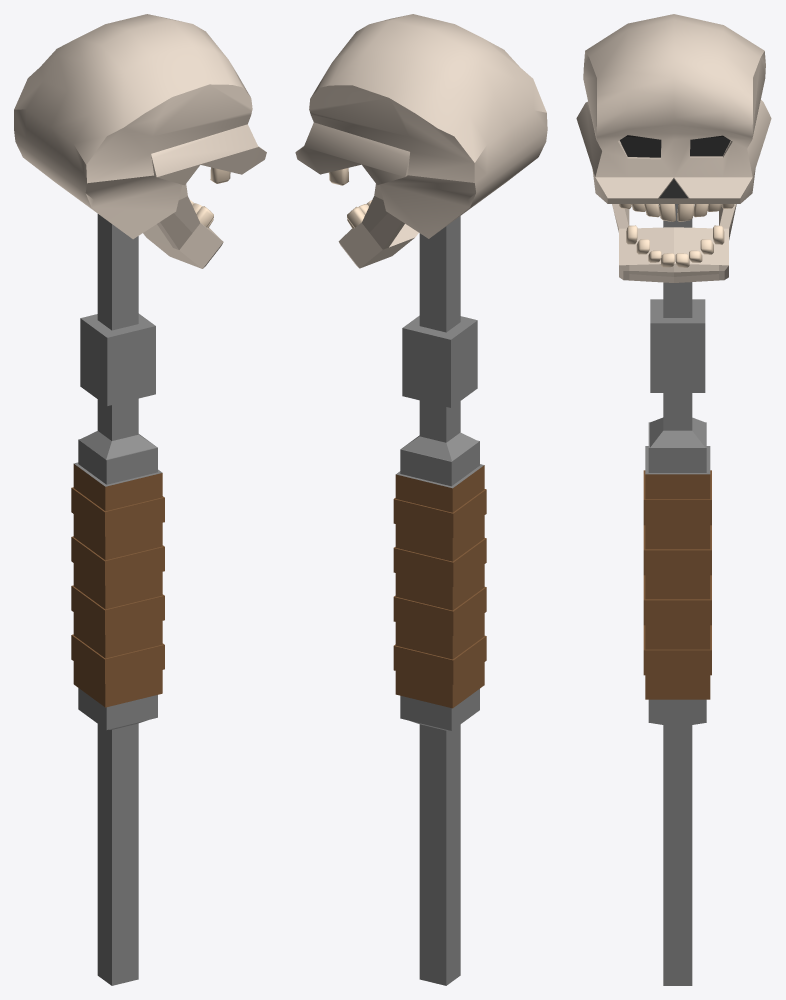
File: 3D.SemaforoHorror.fbx
3 views of the same model, side by side, from view 1: azimuth 30°, elevation 25°; view 2: azimuth 150°, elevation 25°; view 3: azimuth 270°, elevation 25° (orthographic). The views are drawn at different scales.
Parts seen in each view (by area): view 1: Craneo, Cube, Cube.004, Cube.003; view 2: Craneo, Cube, Cube.004, Cube.003; view 3: Craneo, Cube, Cube.004, Cube.003, Occhi, Cube.002.
Boxes of the visible parts, x1,y1,x2,y2 form: Craneo: [14, 14, 266, 239]; Cube: [74, 214, 162, 985]; Cube.004: [71, 464, 164, 707]; Cube.003: [143, 184, 223, 268]; Craneo: [295, 14, 547, 238]; Cube: [396, 216, 483, 985]; Cube.004: [393, 465, 486, 708]; Cube.003: [338, 184, 418, 268]; Craneo: [576, 14, 771, 203]; Cube: [645, 204, 710, 985]; Cube.004: [643, 470, 711, 699]; Cube.003: [612, 204, 736, 282]; Occhi: [619, 135, 730, 198]; Cube.002: [619, 204, 734, 221].
Bounding box in the file's own units: 59.35 × 292 × 53.51.
